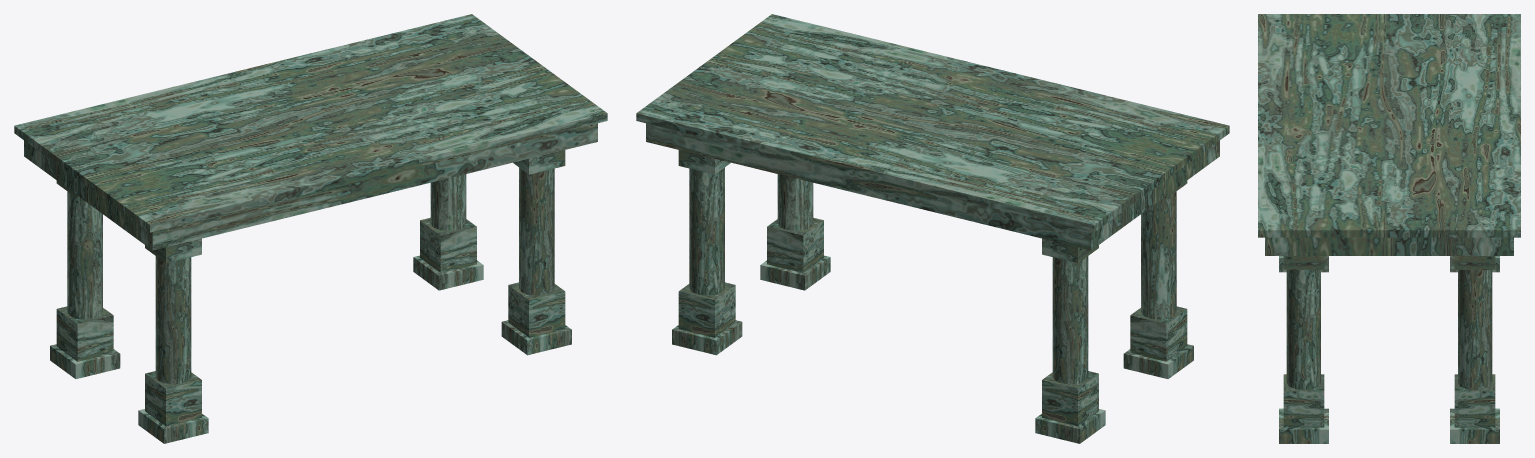
The model's file is Table_UpperDeck.FBX.
3 renders of one model, left to right at view 1: azimuth 30°, elevation 25°; view 2: azimuth 150°, elevation 25°; view 3: azimuth 270°, elevation 25°, orthographic. The views are drawn at different scales.
Visible parts, largest first — view 1: Box027; view 2: Box027; view 3: Box027.
Part boxes in pixels (<box>): Box027: <box>14,14,607,443</box>; Box027: <box>636,14,1229,443</box>; Box027: <box>1258,14,1520,443</box>.
Size of the model in its own units: 206 by 100 by 106.
